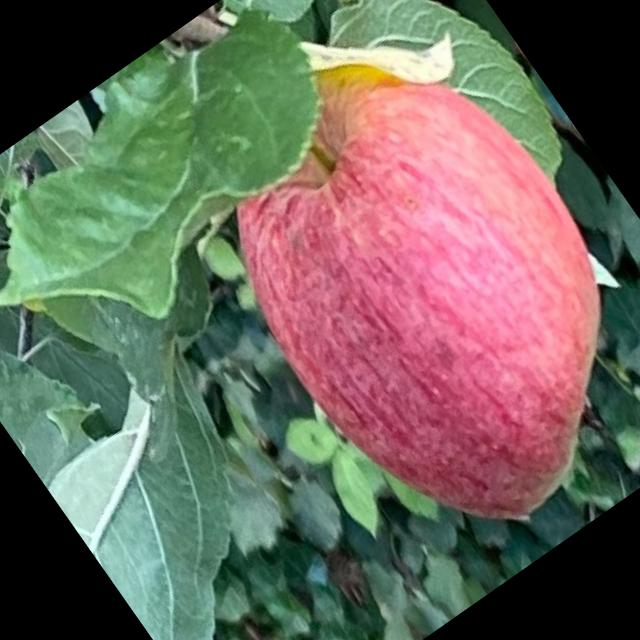Apples: (163, 1, 639, 576)
